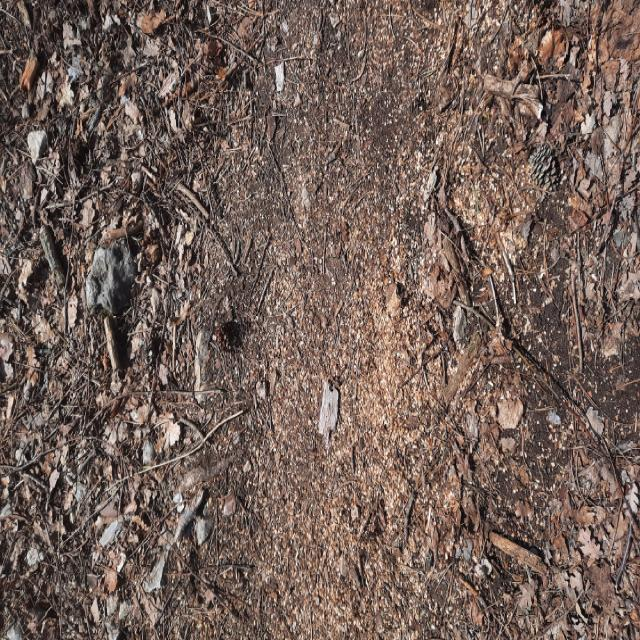red-sand: (0, 0, 639, 639)
stone: (85, 240, 136, 315)
